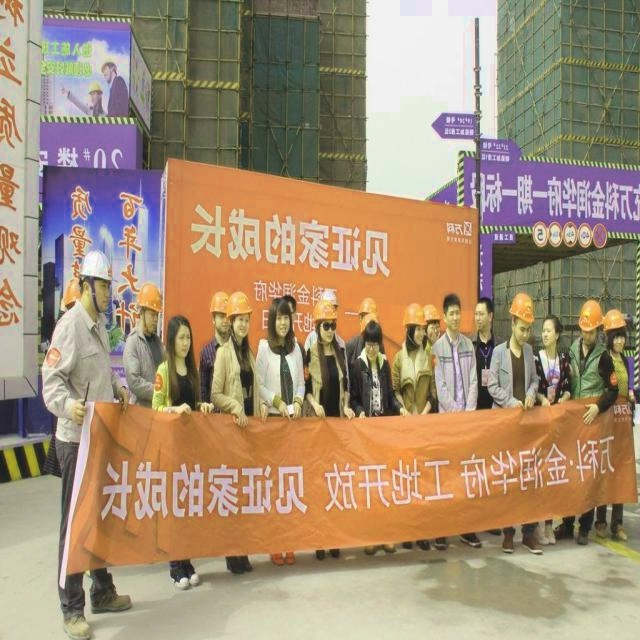Con_Casco: (405, 302, 429, 346)
Sin_Casco_Mascarrilla: (268, 297, 292, 345)
